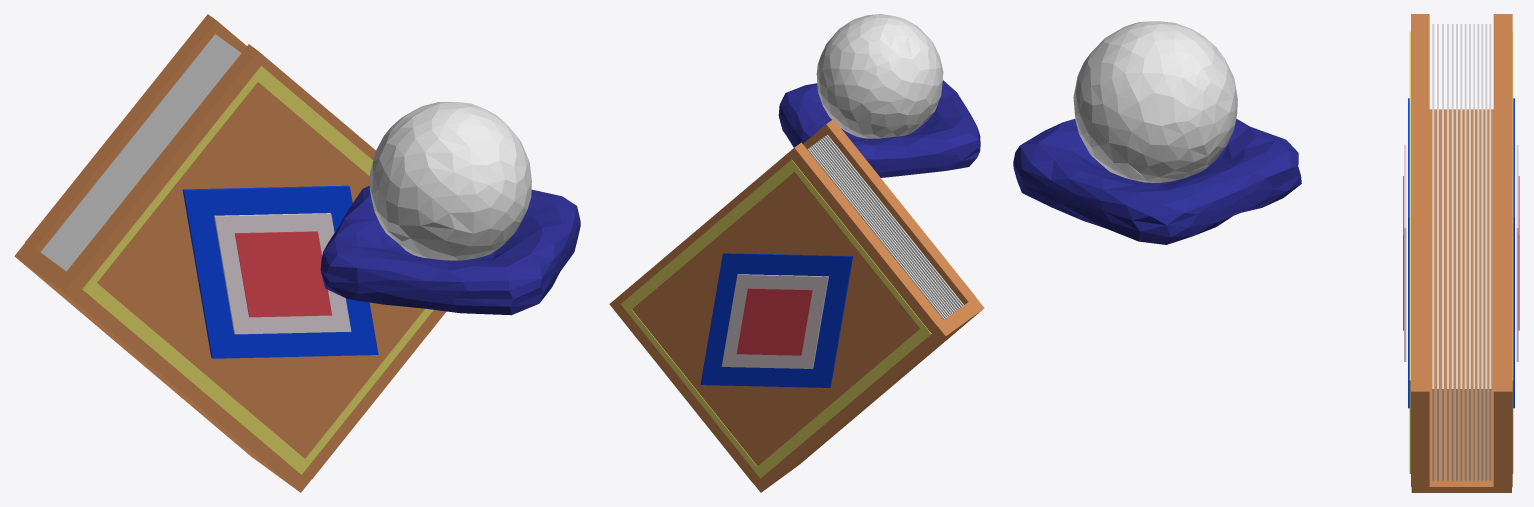
File: diviner_item.fbx
3 renders of one model, left to right at view 1: azimuth 30°, elevation 25°; view 2: azimuth 150°, elevation 25°; view 3: azimuth 270°, elevation 25°, orthographic. The views are drawn at different scales.
Parts seen in each view (by area): view 1: Cube, Sphere, Cube.017, Plane.001, Plane, Cube.002, Plane.003, Plane.002, Cube.001, Cube.005, Cube.006, Cube.007 (+9 smaller); view 2: Cube.001, Sphere, Plane.001, Cube.017, Plane, Plane.002, Cube.002, Plane.003, Cube, Cube.004, Cube.005, Cube.003 (+9 smaller); view 3: Sphere, Cube.017, Cube.002, Cube.001, Cube, Plane, Cube.003, Cube.007, Cube.009, Cube.010, Cube.013, Cube.014 (+10 smaller).
Part boxes in pixels (box(x1,y1,x2,y2)): Cube: box(66, 44, 446, 479); Sphere: box(369, 102, 531, 260); Cube.017: box(320, 185, 580, 315); Plane.001: box(182, 185, 378, 358); Plane: box(82, 66, 433, 474); Cube.002: box(14, 243, 311, 492); Plane.003: box(235, 231, 332, 317); Plane.002: box(214, 213, 351, 334); Cube.001: box(25, 14, 246, 252); Cube.005: box(64, 51, 240, 270); Cube.006: box(61, 49, 238, 269); Cube.007: box(59, 48, 235, 267); Cube.001: box(609, 142, 943, 482); Sphere: box(816, 14, 943, 138); Plane.001: box(700, 253, 853, 387); Cube.017: box(778, 80, 980, 177); Plane: box(621, 159, 931, 478); Plane.002: box(721, 274, 828, 368); Cube.002: box(752, 298, 984, 492); Plane.003: box(736, 288, 812, 355); Cube: box(803, 119, 976, 304); Cube.004: box(824, 136, 962, 307); Cube.005: box(822, 137, 959, 308); Cube.003: box(826, 135, 963, 306); Sphere: box(1073, 21, 1237, 182); Cube.017: box(1013, 118, 1301, 244); Cube.002: box(1411, 109, 1511, 492); Cube.001: box(1493, 14, 1512, 487); Cube: box(1411, 14, 1429, 487); Plane: box(1409, 31, 1513, 473); Cube.003: box(1432, 24, 1434, 480); Cube.007: box(1451, 24, 1453, 480); Cube.009: box(1460, 24, 1462, 480); Cube.010: box(1464, 24, 1466, 480); Cube.013: box(1477, 24, 1479, 480); Cube.014: box(1481, 24, 1483, 480).
Size of the model in its own units: 89.13 by 93.13 by 89.83.
